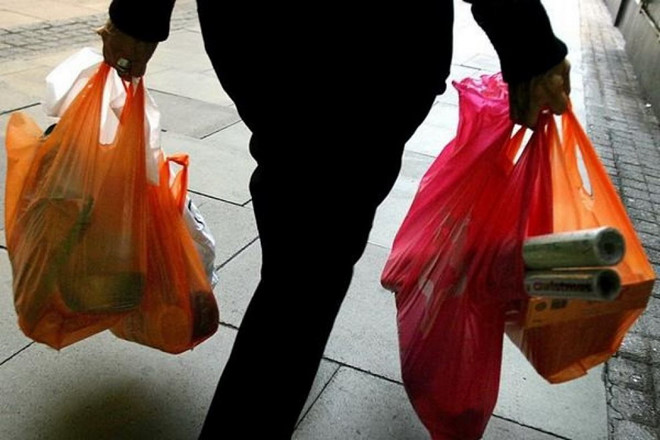plastic bag: (379, 73, 656, 440), (3, 52, 221, 353)
